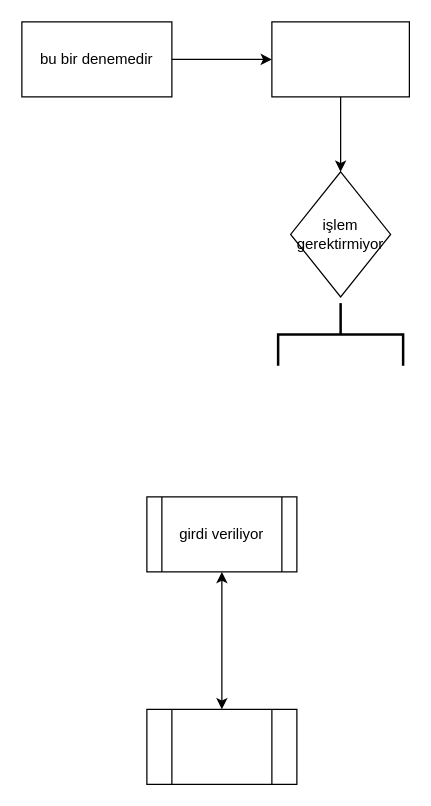
Some shapes in this 431 by 806 pixel diagram are drawn without their labels. The centre of each missing label's shape, as x and y in pixels:
bu denemenin yoludur: the point at 340,59
girdi alınıyor: the point at 221,746
